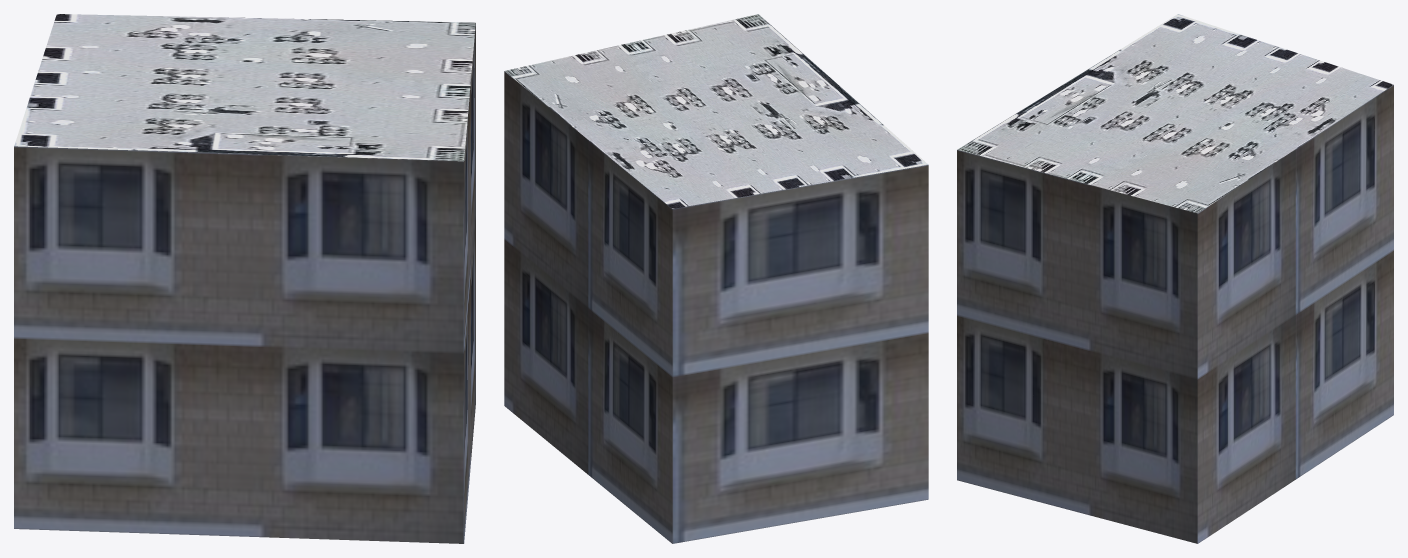
Rendered from ResTex__1813.fbx.
3 views of the same model, side by side, from view 1: azimuth 30°, elevation 25°; view 2: azimuth 150°, elevation 25°; view 3: azimuth 270°, elevation 25° (orthographic). The views are drawn at different scales.
Parts seen in each view (by area): view 1: CityEngineMaterial_3_m, CityEngineMaterial_8_m; view 2: CityEngineMaterial_3_m, CityEngineMaterial_8_m; view 3: CityEngineMaterial_3_m, CityEngineMaterial_8_m.
Part boxes in pixels (<box>): CityEngineMaterial_3_m: <box>14,23,475,543</box>; CityEngineMaterial_8_m: <box>14,14,475,161</box>; CityEngineMaterial_3_m: <box>504,71,928,543</box>; CityEngineMaterial_8_m: <box>505,14,928,208</box>; CityEngineMaterial_3_m: <box>957,85,1393,543</box>; CityEngineMaterial_8_m: <box>957,14,1393,213</box>.
Size of the model in its own units: 7.77 by 6 by 7.19.
Materials: 2 (2 with a texture image).
